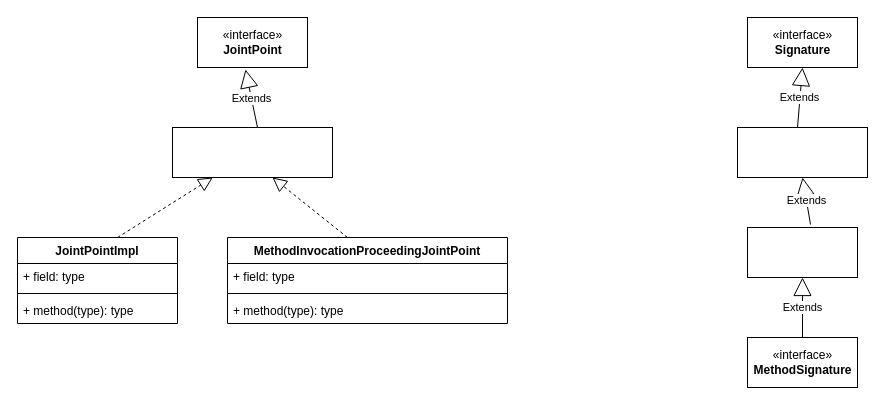
Some shapes in this 885 by 405 pixel diagram are drawn without their labels. The centre of each missing label's shape, as x and y in pixels:
«interface» CodeSignature: the point at 802,252
«interface» MemberSignature: the point at 802,152
«interface» ProceedingJointPoint: the point at 252,152
